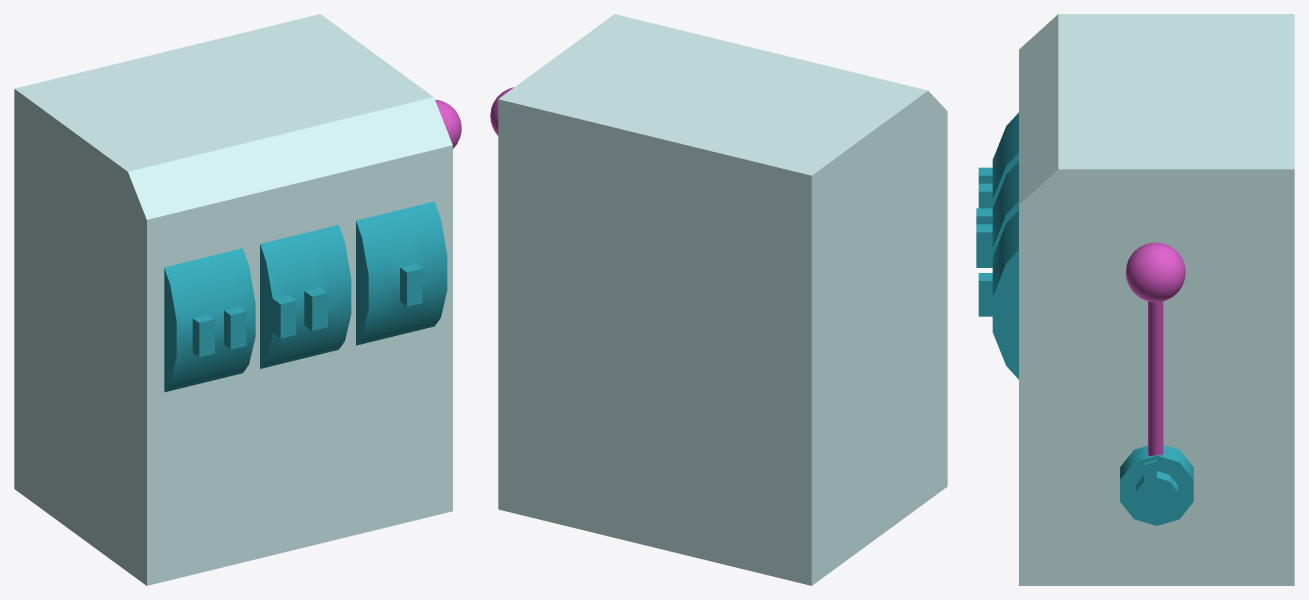
The model's file is slot-machine.glb.
The picture shows the model from 3 angles, left to right: view 1: azimuth 30°, elevation 25°; view 2: azimuth 150°, elevation 25°; view 3: azimuth 270°, elevation 25°; orthographic projection. The views are drawn at different scales.
Visible parts, largest first — view 1: body, reel_1, reel_2, reel_3, lever_arm; view 2: body; view 3: body, lever_arm, lever_base, reel_3, reel_2, reel_1.
Boxes of the visible parts, x1,y1,x2,y2 form: body: (14, 14, 452, 585); reel_1: (164, 248, 255, 392); reel_2: (260, 225, 351, 368); reel_3: (356, 201, 447, 345); lever_arm: (435, 99, 461, 148); body: (498, 14, 947, 585); body: (1019, 14, 1294, 585); lever_arm: (1125, 242, 1185, 455); lever_base: (1120, 445, 1193, 525); reel_3: (978, 210, 1018, 379); reel_2: (976, 161, 1018, 267); reel_1: (978, 112, 1018, 208).
Bounding box in the file's own units: 0.9848 × 1 × 0.6932.
